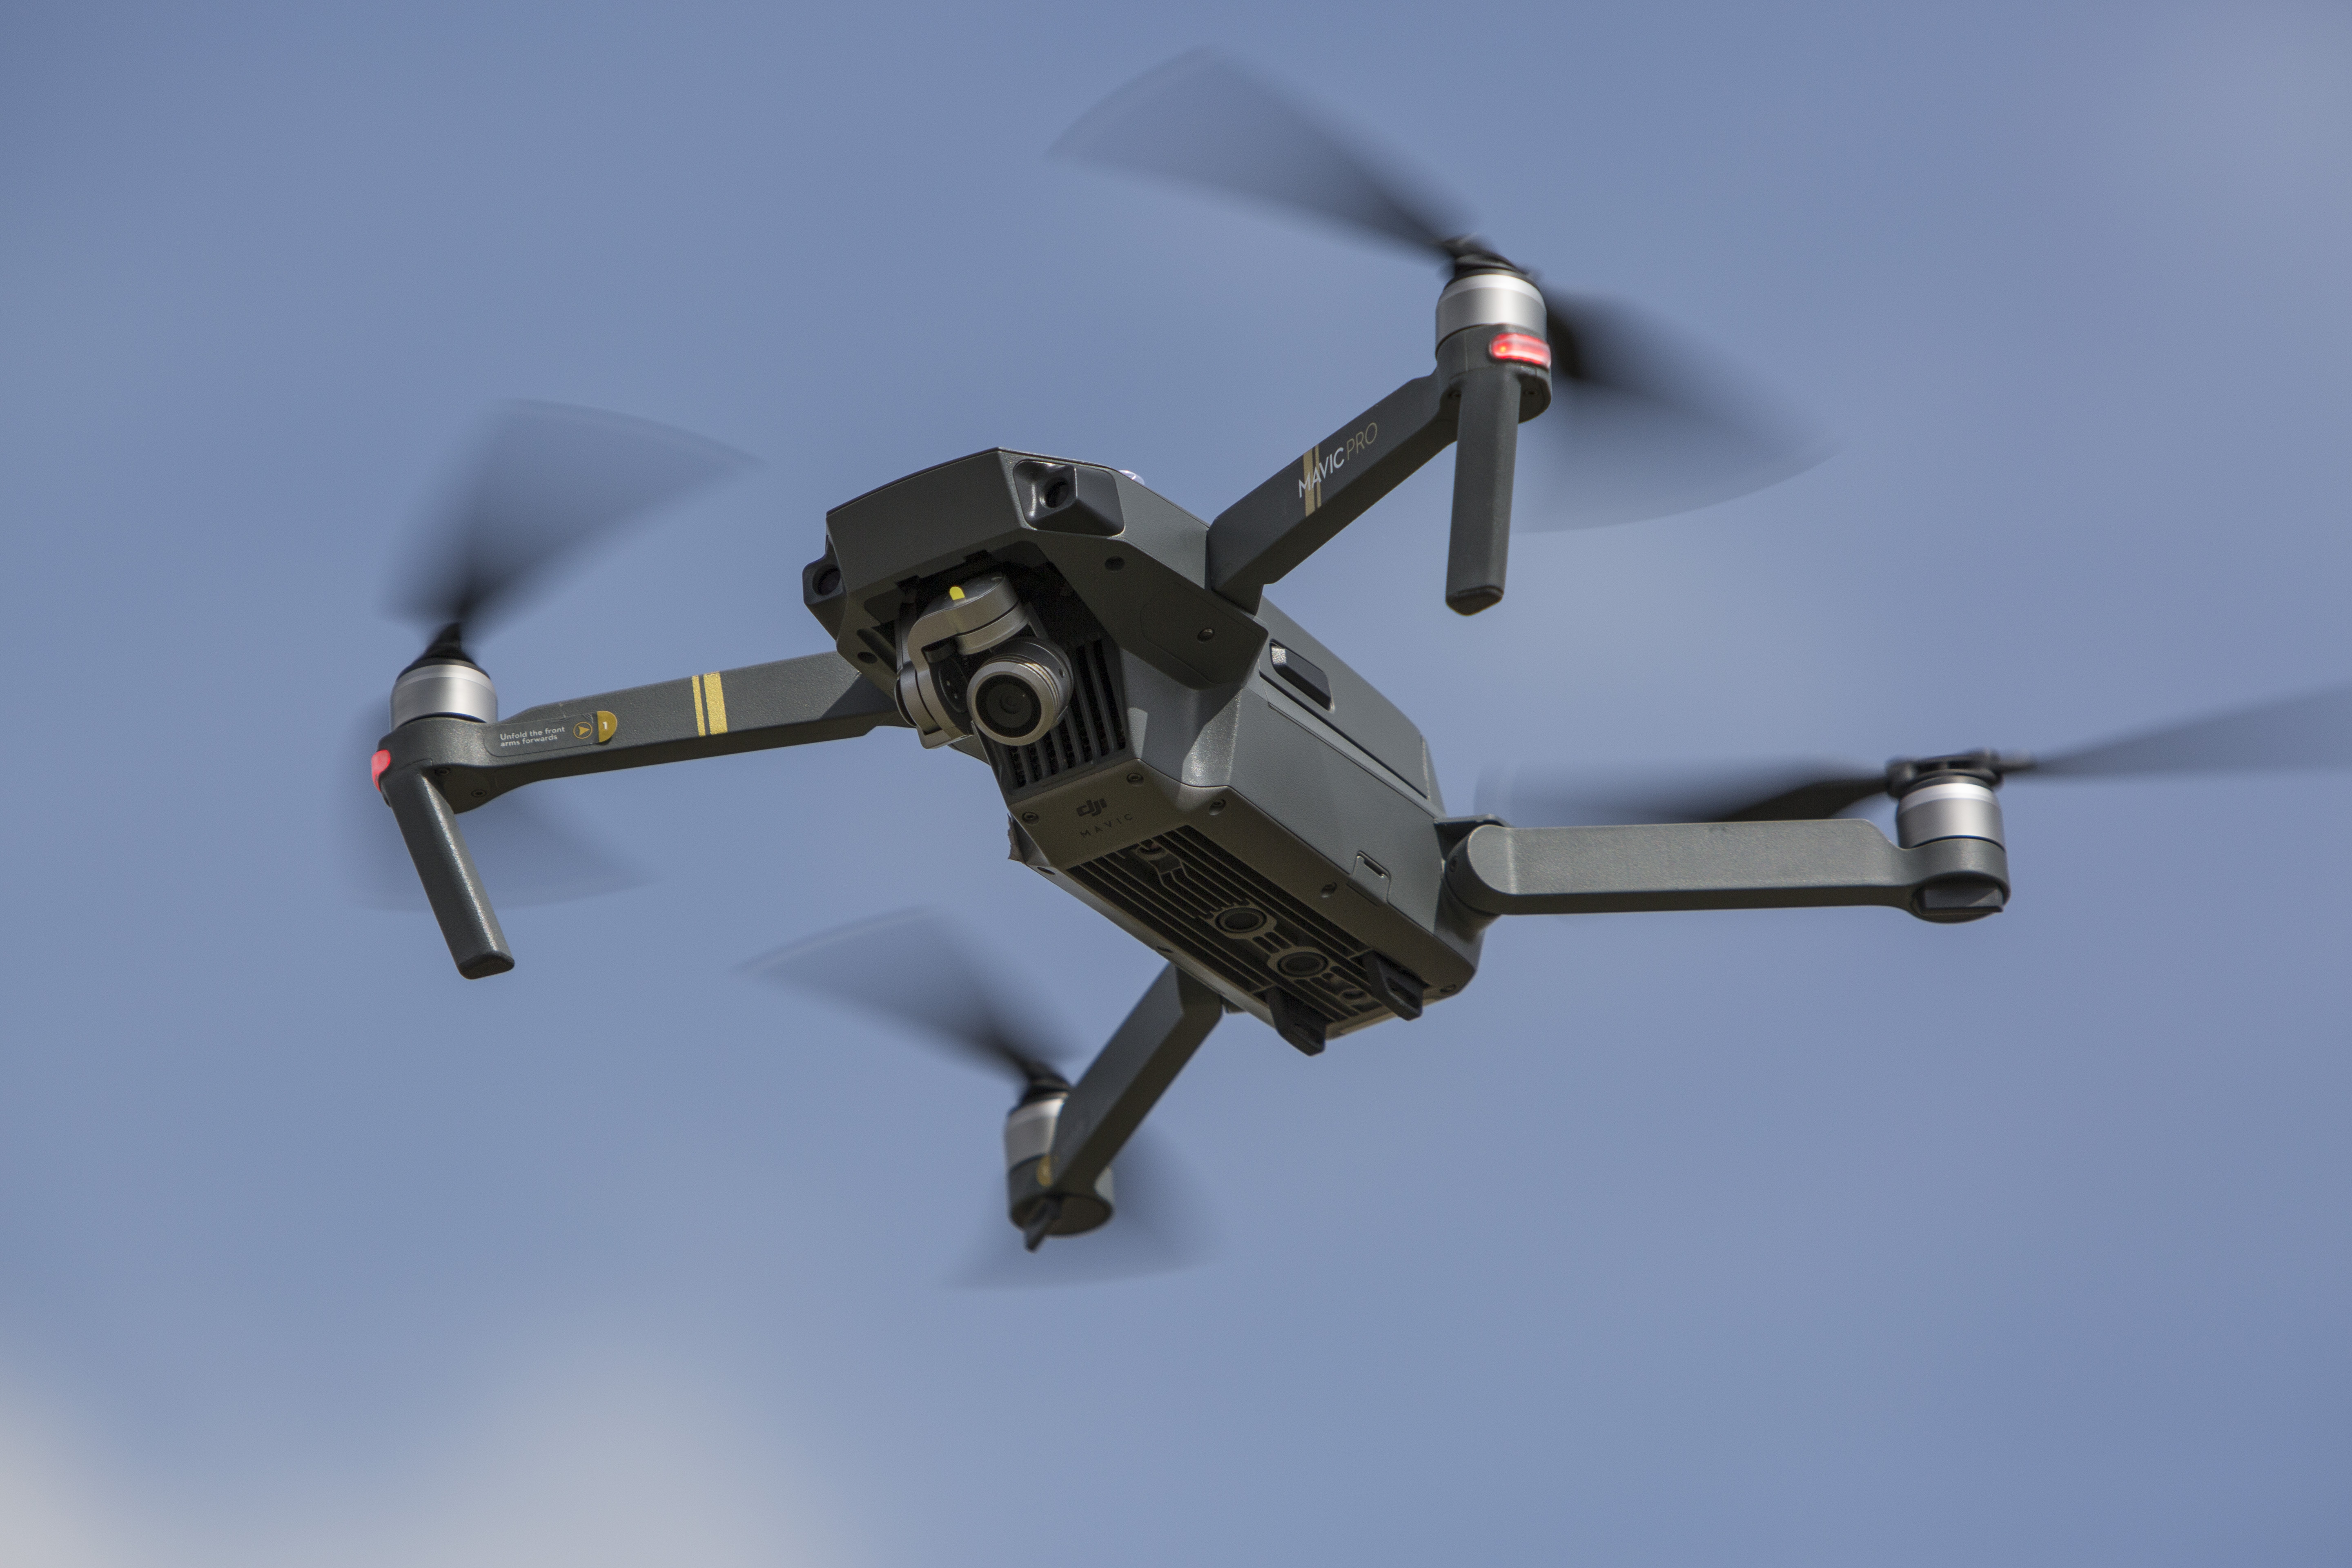drone: (287, 42, 2352, 1291)
